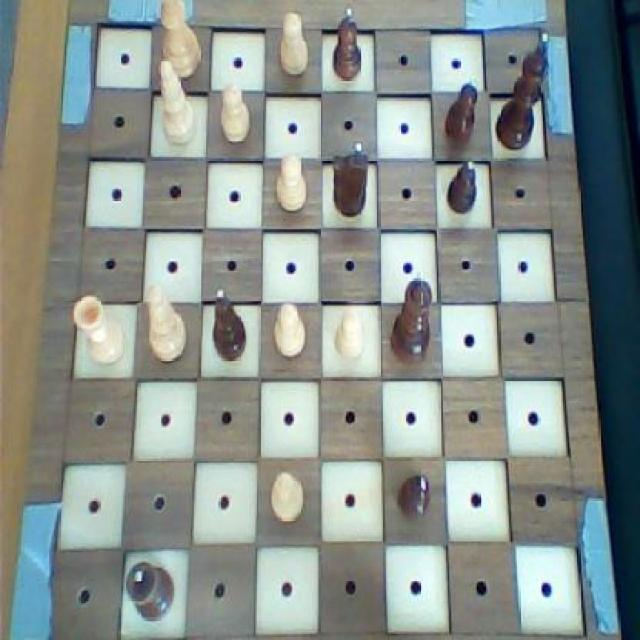bishop: (211, 283, 248, 369)
black-bishop: (496, 29, 554, 160)
black-king: (326, 138, 369, 218)
black-knight: (326, 3, 366, 82), (442, 78, 483, 151), (443, 155, 480, 221), (392, 469, 432, 526)
black-pawn: (388, 268, 434, 367)
black-queen: (123, 555, 181, 623)
black-rook: (150, 56, 202, 152), (142, 278, 189, 368)
white-bishop: (157, 0, 204, 82)
white-knight: (274, 149, 311, 220), (215, 82, 253, 149), (274, 11, 311, 79), (272, 299, 308, 366), (270, 469, 306, 531), (331, 303, 367, 364)
white-queen: (69, 291, 130, 371)
